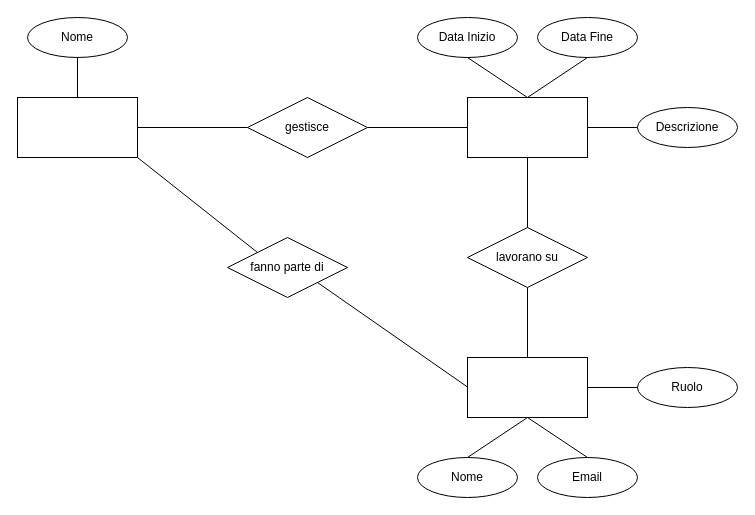
The diagram is 755 pixels wide and 515 high, and some of its shapes have lost their labels. Each missing label, with the centre of its shape:
Dipendenti: (x=527, y=387)
Progetti: (x=527, y=127)
Reparto: (x=77, y=127)
